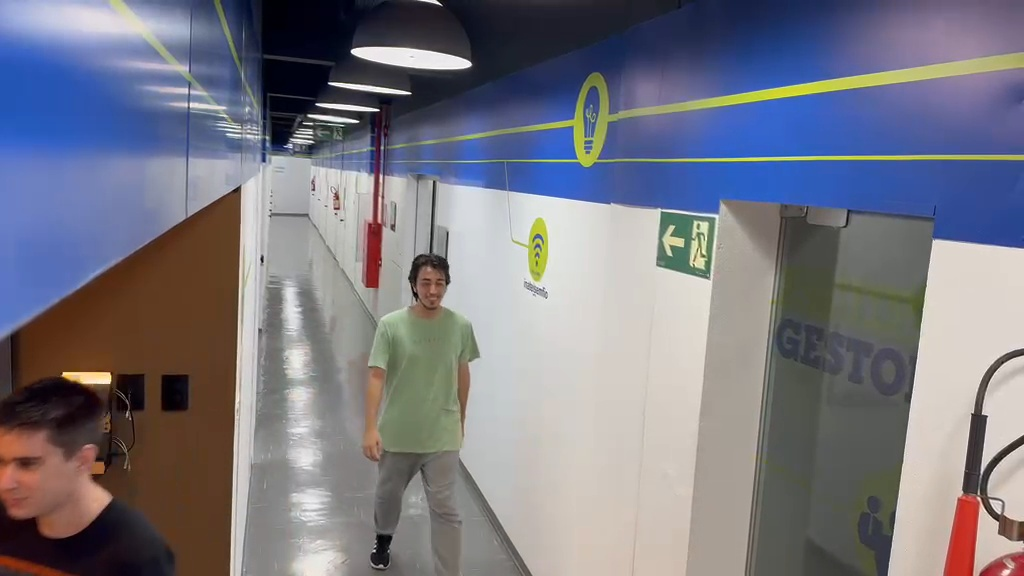person: (362, 251, 480, 572), (0, 376, 177, 573)
